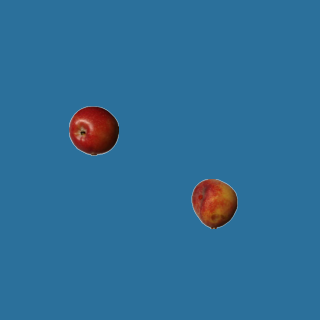Apple Braeburn: (68, 105, 118, 155)
Peach: (189, 178, 239, 228)
